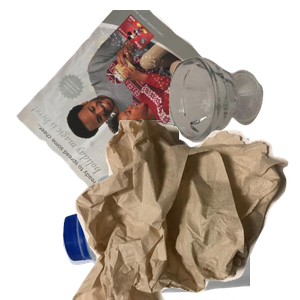glass: (166, 54, 300, 189)
paper: (14, 10, 229, 190)
plastic: (60, 135, 300, 300)
trash: (70, 120, 300, 300)
